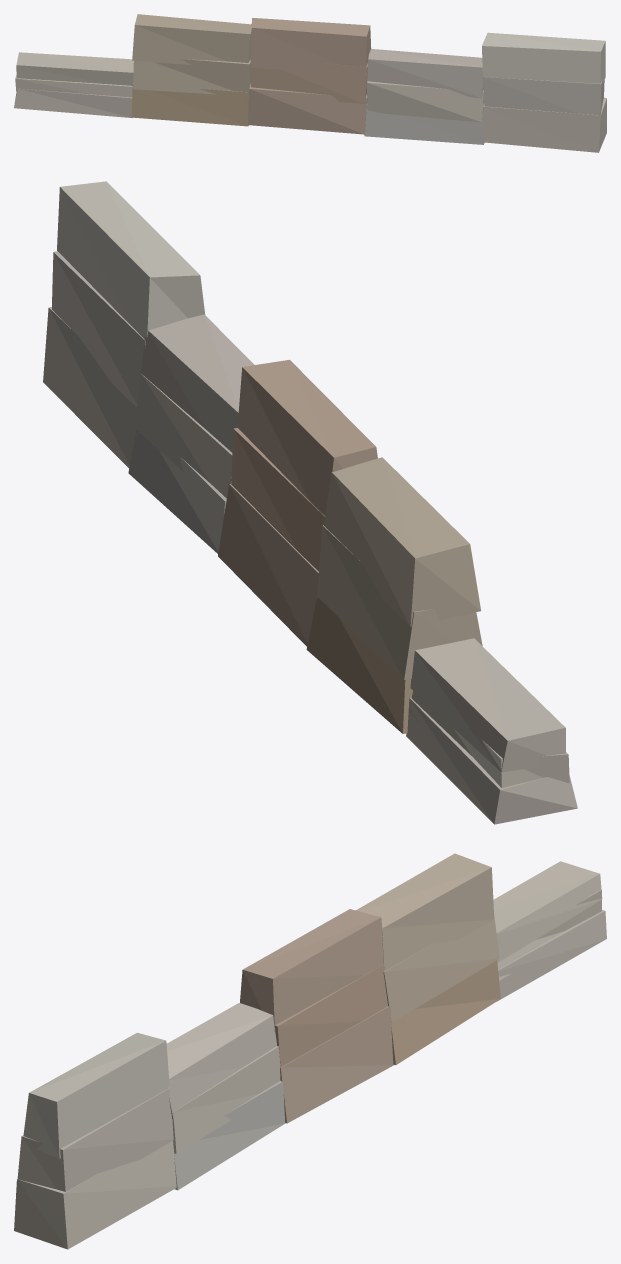
File: farm_22_18_mid.glb
The picture shows the model from 3 angles, top to bottom: view 1: azimuth 30°, elevation 25°; view 2: azimuth 150°, elevation 25°; view 3: azimuth 270°, elevation 25°; orthographic projection. The views are drawn at different scales.
Parts seen in each view (by area): view 1: geometry_0; view 2: geometry_0; view 3: geometry_0.
Part boxes in pixels (left/top/right/bottom): geometry_0: left=14, top=14, right=606, bottom=152; geometry_0: left=43, top=181, right=577, bottom=824; geometry_0: left=14, top=853, right=606, bottom=1249.
Size of the model in its own units: 6.73 by 1.5 by 5.37.
